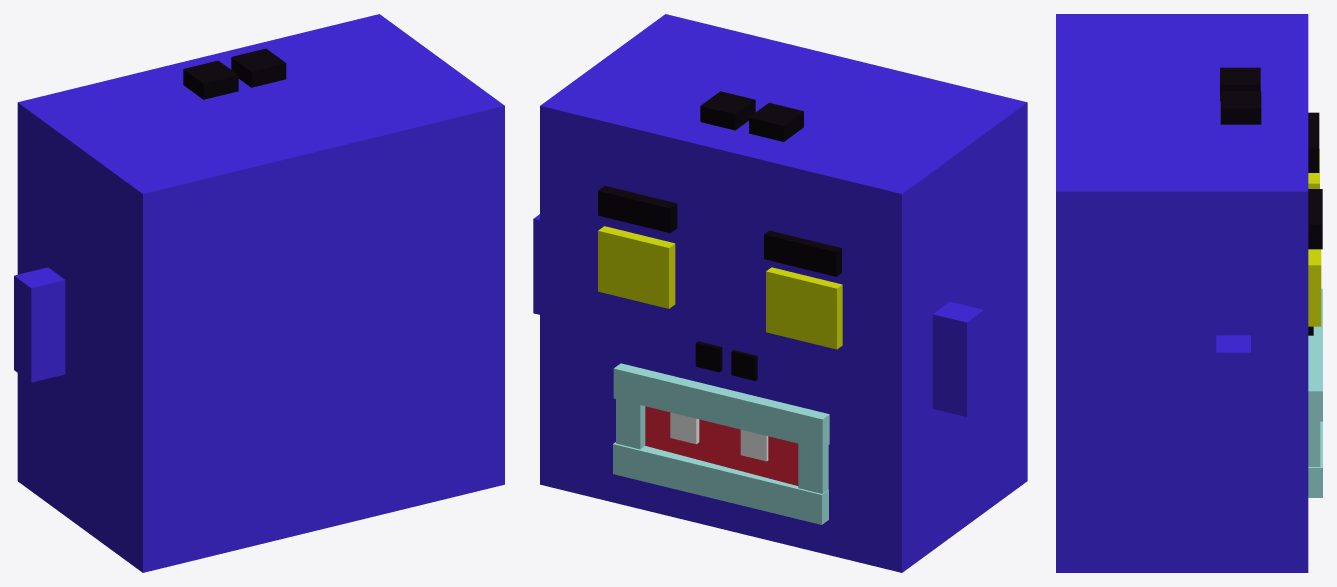
Rendered from zombie_azul_cortado_horizontal.fbx.
3 renders of one model, left to right at view 1: azimuth 30°, elevation 25°; view 2: azimuth 150°, elevation 25°; view 3: azimuth 270°, elevation 25°, orthographic.
Visible parts, largest first — view 1: Plano, Plano.001; view 2: Plano, Plano.001; view 3: Plano, Plano.001.
Part boxes in pixels (<box>): Plano: <box>14,14,504,386</box>; Plano.001: <box>14,301,504,572</box>; Plano: <box>533,14,1027,386</box>; Plano.001: <box>533,272,1027,572</box>; Plano: <box>1056,14,1322,405</box>; Plano.001: <box>1056,288,1322,572</box>.
Size of the model in its own units: 238 by 208 by 127.
